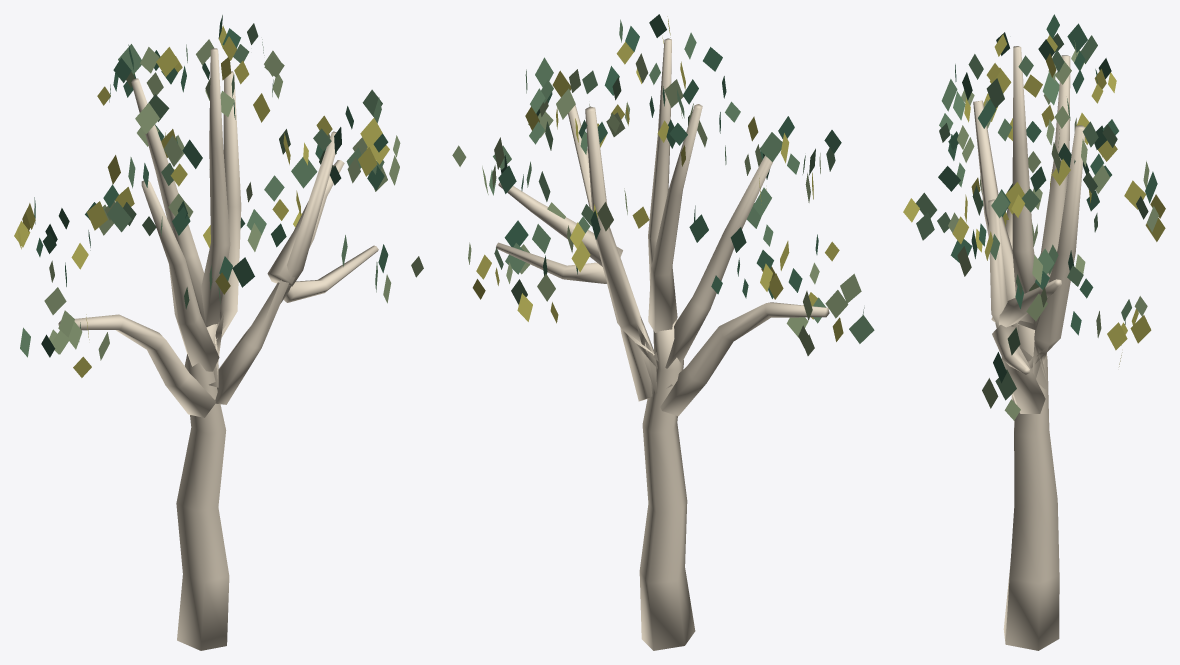
Rendered from TREE_EUCALYPTUS_001_v003_LOD_MAP.glb.
3 views of the same model, side by side, from view 1: azimuth 30°, elevation 25°; view 2: azimuth 150°, elevation 25°; view 3: azimuth 270°, elevation 25° (orthographic).
Visible parts, largest first — view 1: TREE_EUCALYPTUS_001_MAP_MERGED_FOLIAGE_SPRAYS, TREE_EUCALYPTUS_001_MAP_WOOD_00, TREE_EUCALYPTUS_001_MAP_WOOD_07, TREE_EUCALYPTUS_001_MAP_WOOD_05, TREE_EUCALYPTUS_001_MAP_WOOD_03, TREE_EUCALYPTUS_001_MAP_WOOD_01, TREE_EUCALYPTUS_001_MAP_WOOD_06, TREE_EUCALYPTUS_001_MAP_WOOD_04, TREE_EUCALYPTUS_001_MAP_WOOD_12, TREE_EUCALYPTUS_001_MAP_WOOD_08; view 2: TREE_EUCALYPTUS_001_MAP_MERGED_FOLIAGE_SPRAYS, TREE_EUCALYPTUS_001_MAP_WOOD_00, TREE_EUCALYPTUS_001_MAP_WOOD_06, TREE_EUCALYPTUS_001_MAP_WOOD_04, TREE_EUCALYPTUS_001_MAP_WOOD_01, TREE_EUCALYPTUS_001_MAP_WOOD_03, TREE_EUCALYPTUS_001_MAP_WOOD_05, TREE_EUCALYPTUS_001_MAP_WOOD_07, TREE_EUCALYPTUS_001_MAP_WOOD_12, TREE_EUCALYPTUS_001_MAP_WOOD_08; view 3: TREE_EUCALYPTUS_001_MAP_MERGED_FOLIAGE_SPRAYS, TREE_EUCALYPTUS_001_MAP_WOOD_00, TREE_EUCALYPTUS_001_MAP_WOOD_06, TREE_EUCALYPTUS_001_MAP_WOOD_05, TREE_EUCALYPTUS_001_MAP_WOOD_07, TREE_EUCALYPTUS_001_MAP_WOOD_03, TREE_EUCALYPTUS_001_MAP_WOOD_04, TREE_EUCALYPTUS_001_MAP_WOOD_08, TREE_EUCALYPTUS_001_MAP_WOOD_12.
Part boxes in pixels (bbox=[...]): TREE_EUCALYPTUS_001_MAP_MERGED_FOLIAGE_SPRAYS: bbox=[14, 15, 423, 377]; TREE_EUCALYPTUS_001_MAP_WOOD_00: bbox=[176, 324, 229, 650]; TREE_EUCALYPTUS_001_MAP_WOOD_07: bbox=[215, 131, 336, 404]; TREE_EUCALYPTUS_001_MAP_WOOD_05: bbox=[201, 48, 230, 325]; TREE_EUCALYPTUS_001_MAP_WOOD_03: bbox=[141, 180, 219, 371]; TREE_EUCALYPTUS_001_MAP_WOOD_01: bbox=[58, 314, 215, 417]; TREE_EUCALYPTUS_001_MAP_WOOD_06: bbox=[209, 71, 241, 387]; TREE_EUCALYPTUS_001_MAP_WOOD_04: bbox=[131, 78, 219, 327]; TREE_EUCALYPTUS_001_MAP_WOOD_12: bbox=[283, 245, 378, 302]; TREE_EUCALYPTUS_001_MAP_WOOD_08: bbox=[267, 160, 344, 285]; TREE_EUCALYPTUS_001_MAP_MERGED_FOLIAGE_SPRAYS: bbox=[452, 14, 874, 355]; TREE_EUCALYPTUS_001_MAP_WOOD_00: bbox=[639, 319, 695, 650]; TREE_EUCALYPTUS_001_MAP_WOOD_06: bbox=[585, 106, 672, 393]; TREE_EUCALYPTUS_001_MAP_WOOD_04: bbox=[648, 104, 702, 332]; TREE_EUCALYPTUS_001_MAP_WOOD_01: bbox=[660, 302, 829, 416]; TREE_EUCALYPTUS_001_MAP_WOOD_03: bbox=[653, 155, 773, 368]; TREE_EUCALYPTUS_001_MAP_WOOD_05: bbox=[648, 38, 671, 285]; TREE_EUCALYPTUS_001_MAP_WOOD_07: bbox=[568, 105, 653, 401]; TREE_EUCALYPTUS_001_MAP_WOOD_12: bbox=[496, 242, 606, 283]; TREE_EUCALYPTUS_001_MAP_WOOD_08: bbox=[498, 182, 622, 266]; TREE_EUCALYPTUS_001_MAP_MERGED_FOLIAGE_SPRAYS: bbox=[903, 14, 1165, 420]; TREE_EUCALYPTUS_001_MAP_WOOD_00: bbox=[1003, 325, 1059, 650]; TREE_EUCALYPTUS_001_MAP_WOOD_06: bbox=[1028, 125, 1085, 389]; TREE_EUCALYPTUS_001_MAP_WOOD_05: bbox=[1012, 46, 1035, 324]; TREE_EUCALYPTUS_001_MAP_WOOD_07: bbox=[988, 199, 1045, 413]; TREE_EUCALYPTUS_001_MAP_WOOD_03: bbox=[973, 100, 1032, 361]; TREE_EUCALYPTUS_001_MAP_WOOD_04: bbox=[1018, 55, 1070, 329]; TREE_EUCALYPTUS_001_MAP_WOOD_08: bbox=[991, 279, 1061, 327]; TREE_EUCALYPTUS_001_MAP_WOOD_12: bbox=[992, 325, 1029, 374].
Size of the model in its own units: 9.58 by 13.98 by 5.4.
